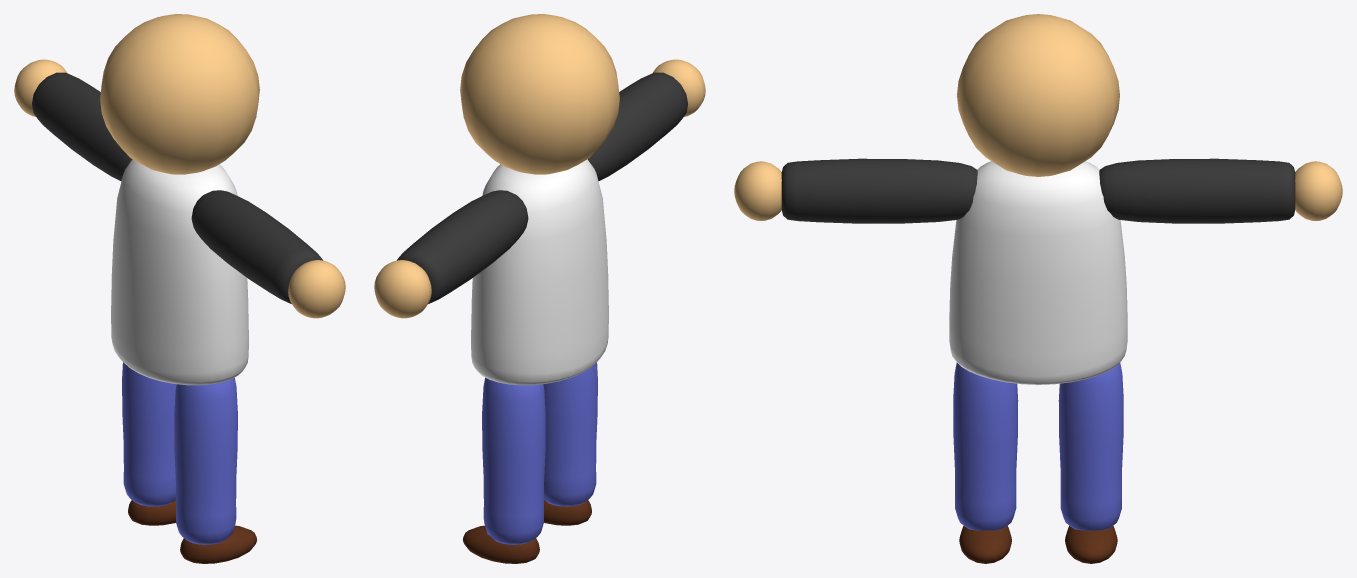
The model's file is barber.fbx.
3 views of the same model, side by side, from view 1: azimuth 30°, elevation 25°; view 2: azimuth 150°, elevation 25°; view 3: azimuth 270°, elevation 25° (orthographic).
Parts seen in each view (by area): view 1: Sphere; view 2: Sphere; view 3: Sphere.
Boxes of the visible parts, bbox=[...] form: Sphere: bbox=[14, 14, 345, 563]; Sphere: bbox=[374, 14, 705, 563]; Sphere: bbox=[734, 14, 1342, 563].
Bounding box in the file's own units: 146 × 518 × 544.
